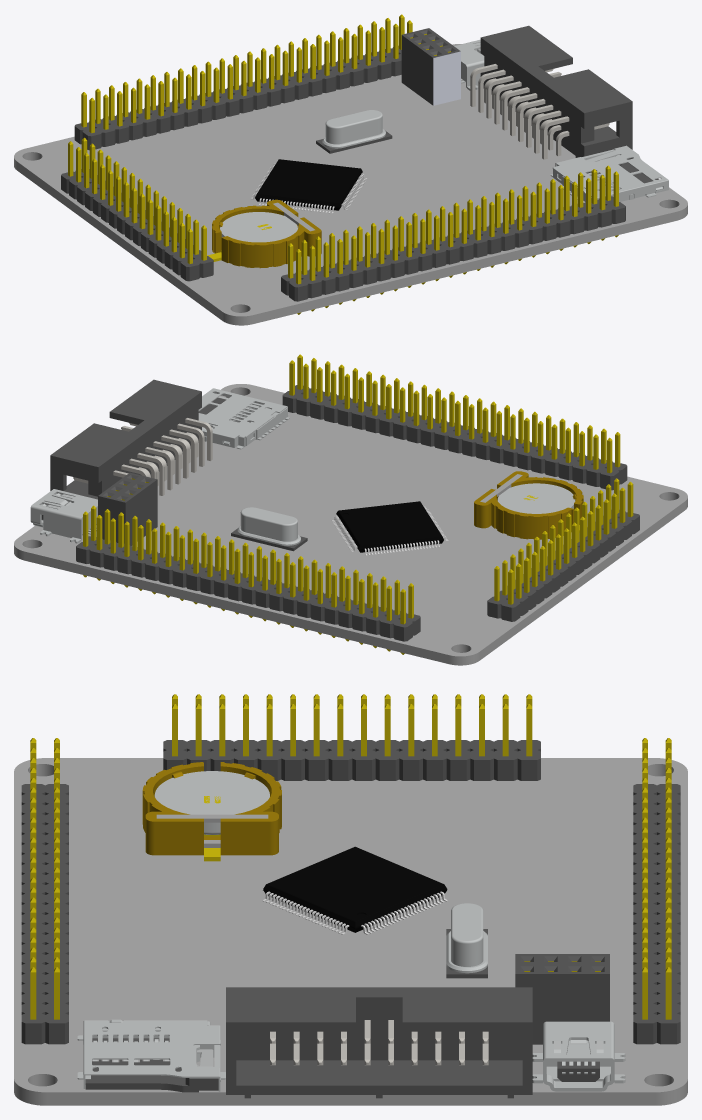
The model's file is STM32.glb.
3 renders of one model, top to bottom at view 1: azimuth 30°, elevation 25°; view 2: azimuth 150°, elevation 25°; view 3: azimuth 270°, elevation 25°, orthographic. The views are drawn at different scales.
Visible parts, largest first — view 1: STM32F407ZGT6; view 2: STM32F407ZGT6; view 3: STM32F407ZGT6.
Boxes of the visible parts, left/top/right/bottom form: STM32F407ZGT6: left=14, top=14, right=687, bottom=325; STM32F407ZGT6: left=14, top=354, right=687, bottom=665; STM32F407ZGT6: left=14, top=694, right=687, bottom=1105.
Bounding box in the file's own units: 0.0866 × 0.0122 × 0.0725.
